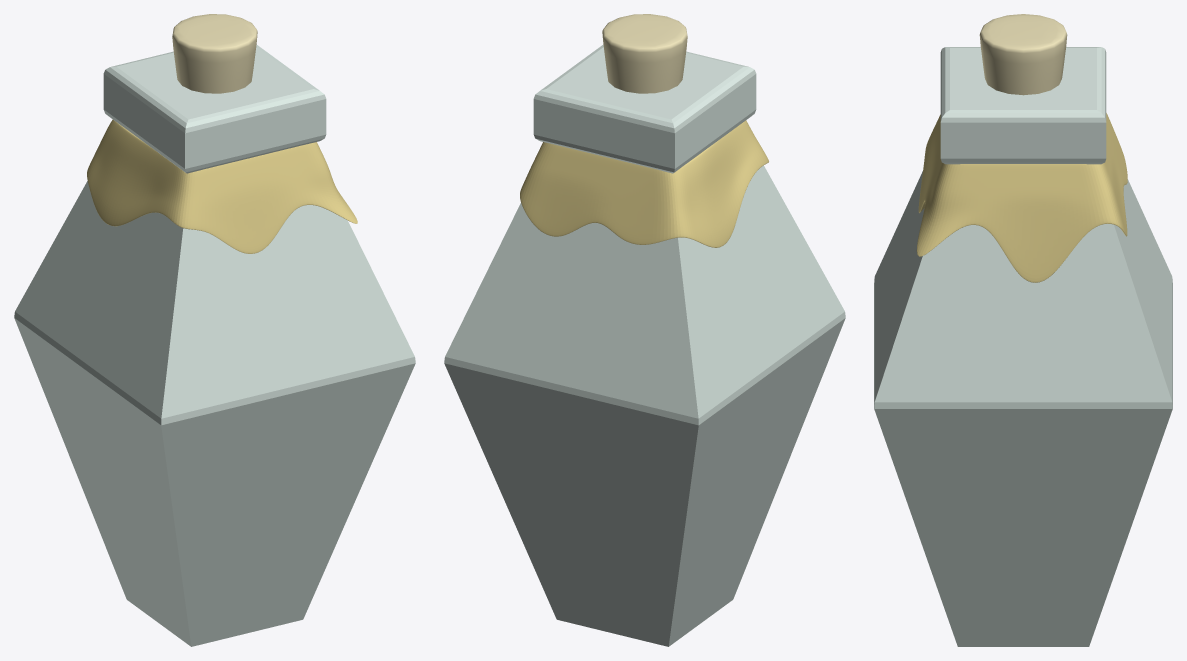
File: honey.fbx
3 renders of one model, left to right at view 1: azimuth 30°, elevation 25°; view 2: azimuth 150°, elevation 25°; view 3: azimuth 270°, elevation 25°, orthographic.
Parts seen in each view (by area): view 1: Cube.002; view 2: Cube.002; view 3: Cube.002.
Boxes of the visible parts, box(x1,y1,x2,y2) form: Cube.002: box(14, 14, 415, 646); Cube.002: box(444, 14, 845, 646); Cube.002: box(874, 14, 1172, 646).
Bounding box in the file's own units: 314 × 683 × 314.
